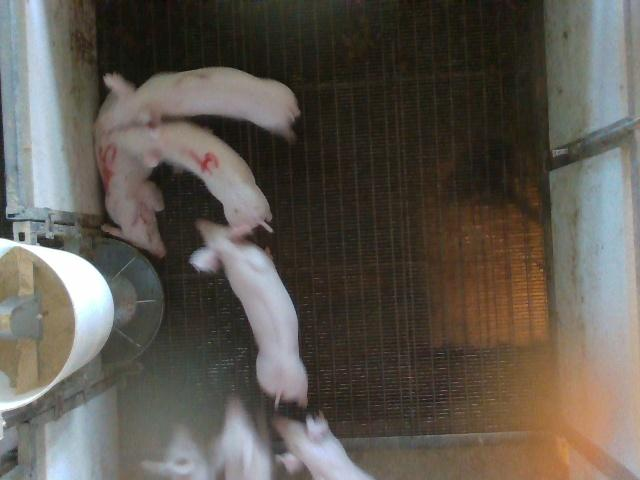pig-2: (95, 68, 300, 141)
pig-4: (115, 121, 271, 232)
pig-5: (98, 142, 166, 257)
